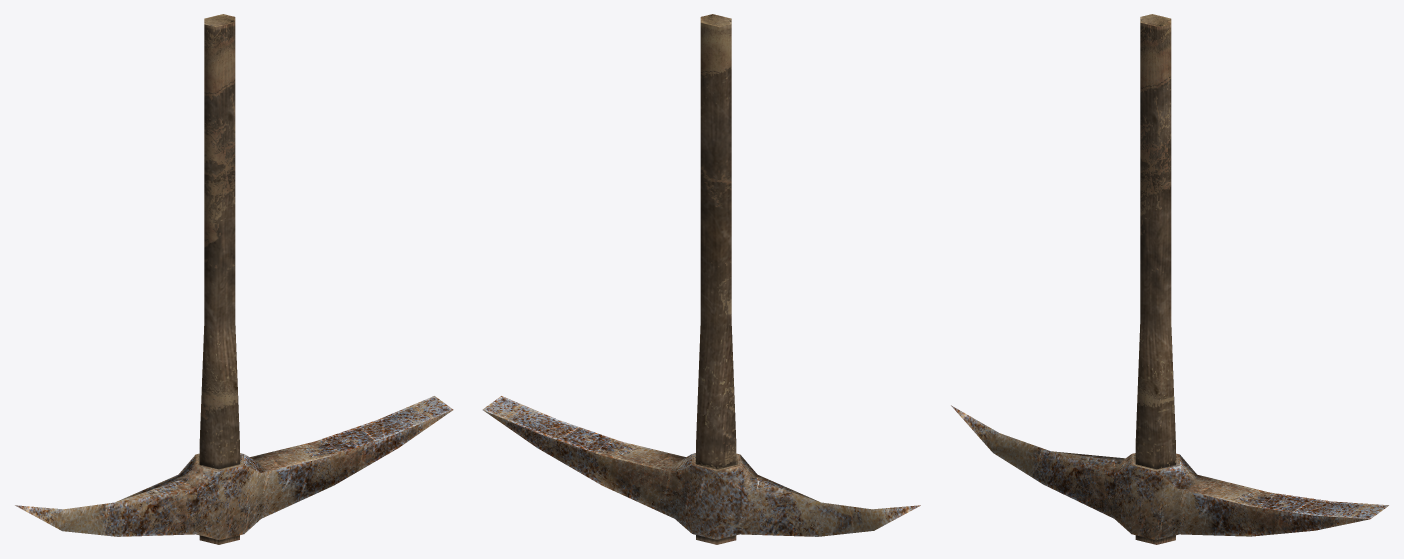
File: pickaxe01.fbx
3 renders of one model, left to right at view 1: azimuth 30°, elevation 25°; view 2: azimuth 150°, elevation 25°; view 3: azimuth 330°, elevation 25°, orthographic.
Parts seen in each view (by area): view 1: mdl_LOD0; view 2: mdl_LOD0; view 3: mdl_LOD0.
Boxes of the visible parts, x1,y1,x2,y2 form: mdl_LOD0: (15, 14, 453, 544); mdl_LOD0: (482, 14, 920, 544); mdl_LOD0: (951, 14, 1388, 544).
Size of what is drawn, in the model's own units: 105 by 120 by 9.94.
